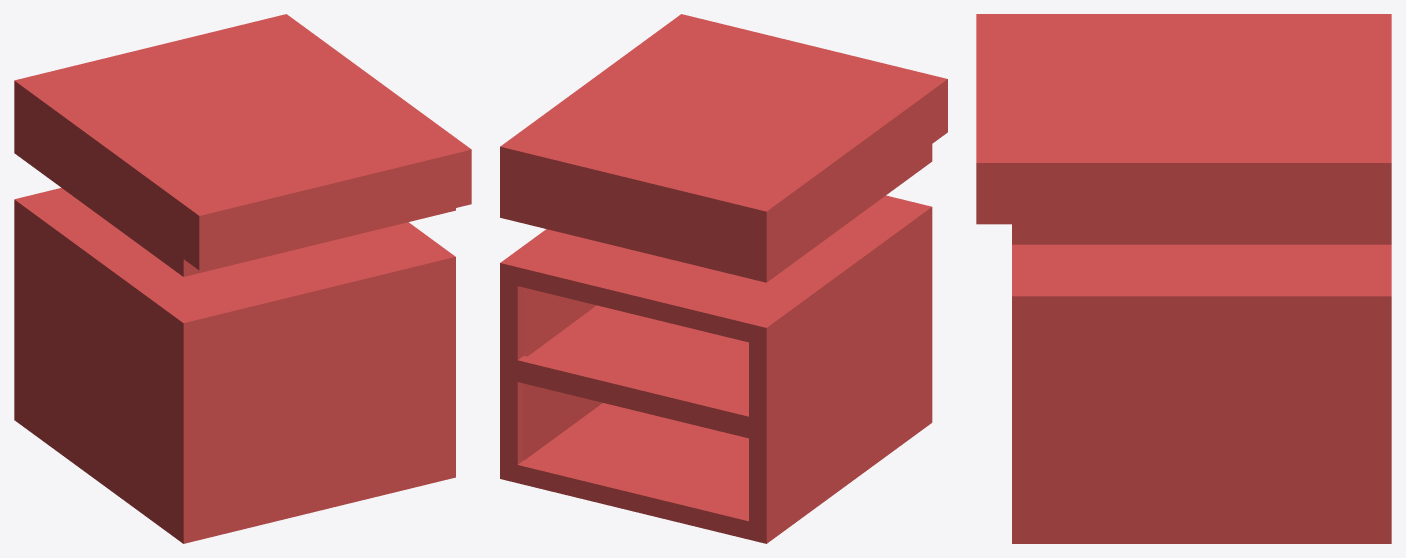
The model's file is Mesh_Counter_Middle.fbx.
The picture shows the model from 3 angles, left to right: view 1: azimuth 30°, elevation 25°; view 2: azimuth 150°, elevation 25°; view 3: azimuth 270°, elevation 25°; orthographic projection. The views are drawn at different scales.
Parts seen in each view (by area): view 1: Middle_SGCabinet.010; view 2: Middle_SGCabinet.010; view 3: Middle_SGCabinet.010.
Part boxes in pixels (bbox=[...]): Middle_SGCabinet.010: bbox=[14, 14, 471, 543]; Middle_SGCabinet.010: bbox=[500, 14, 947, 543]; Middle_SGCabinet.010: bbox=[976, 14, 1391, 543].
Size of the model in its own units: 200 by 238 by 236.
